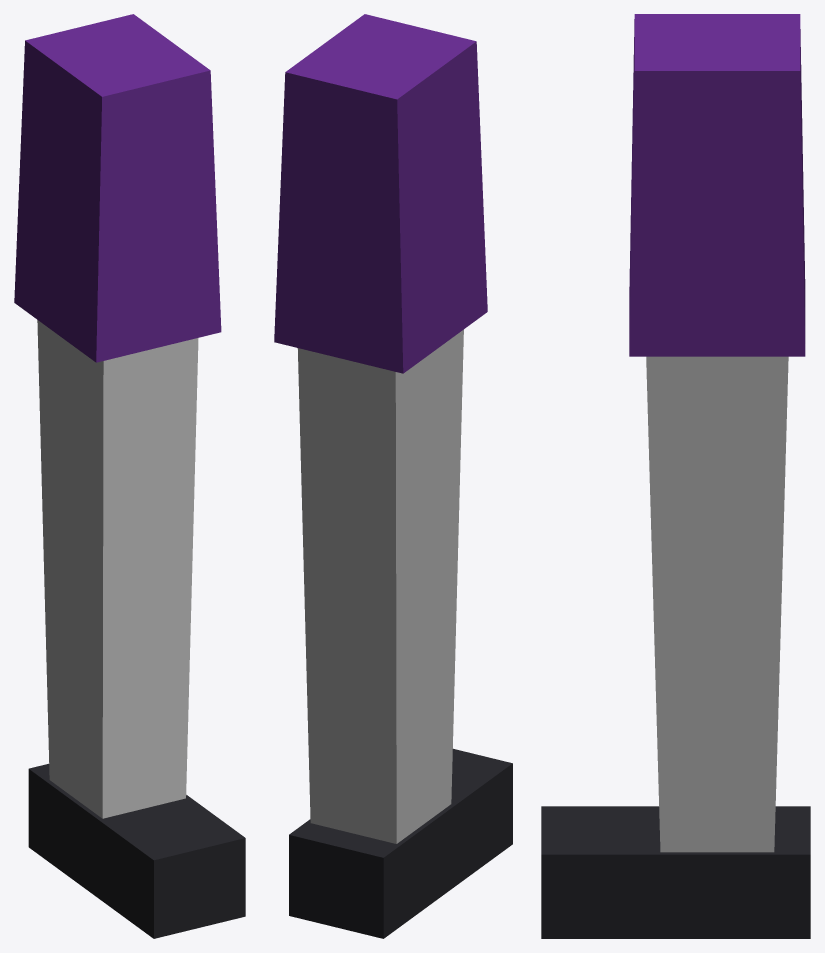
Rendered from leg_k18.glb.
The picture shows the model from 3 angles, left to right: view 1: azimuth 30°, elevation 25°; view 2: azimuth 150°, elevation 25°; view 3: azimuth 270°, elevation 25°; orthographic projection. The views are drawn at different scales.
Parts seen in each view (by area): view 1: leg_kit; view 2: leg_kit; view 3: leg_kit.
Part boxes in pixels (<box>): leg_kit: <box>14,14,245,938</box>; leg_kit: <box>274,14,512,938</box>; leg_kit: <box>541,14,810,938</box>.
Size of the model in its own units: 0.15 by 0.93 by 0.26.
